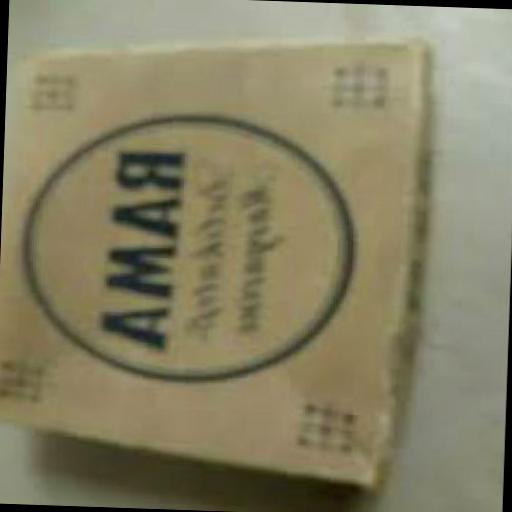cardboard: (0, 21, 425, 492)
